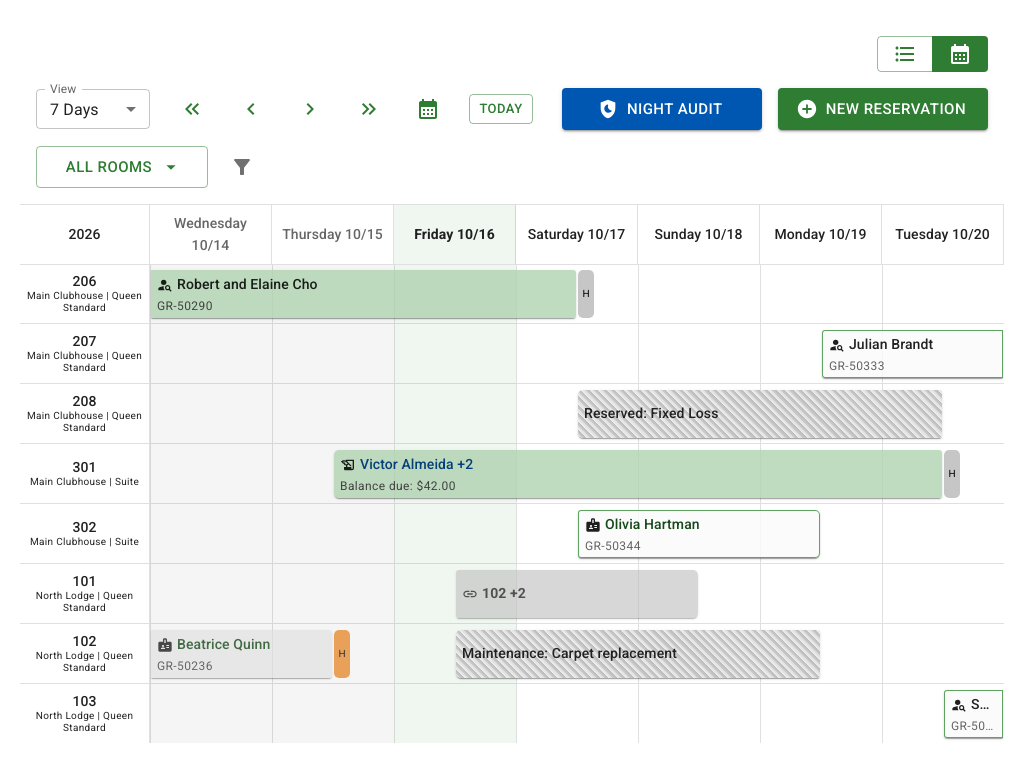
Test: the lock icons of Change Room During Stay › show no lock to a user who holds the Change Reservation functions
(page scrolled)
Click the cell "Victor Almeida +2 Balance due: $42.00 H" at coordinates (638, 474), box [334,450,942,498]
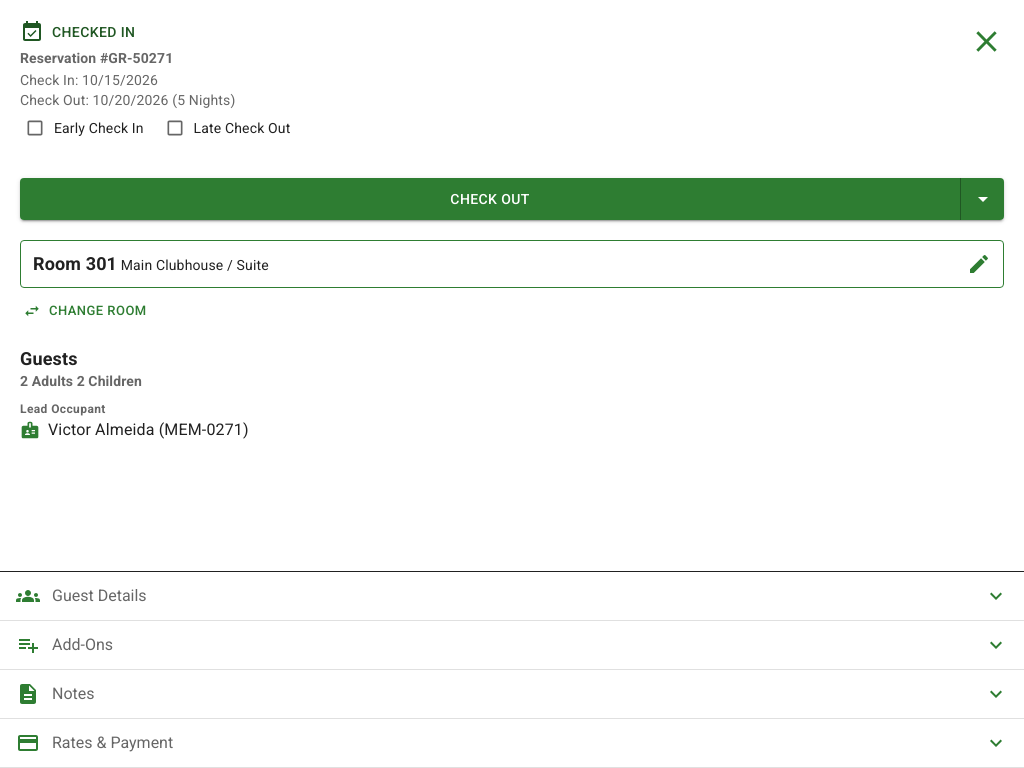
Result: the button "Change Room" is shown
Click the button "Change Room" at coordinates (86, 311), box [20,296,152,326]
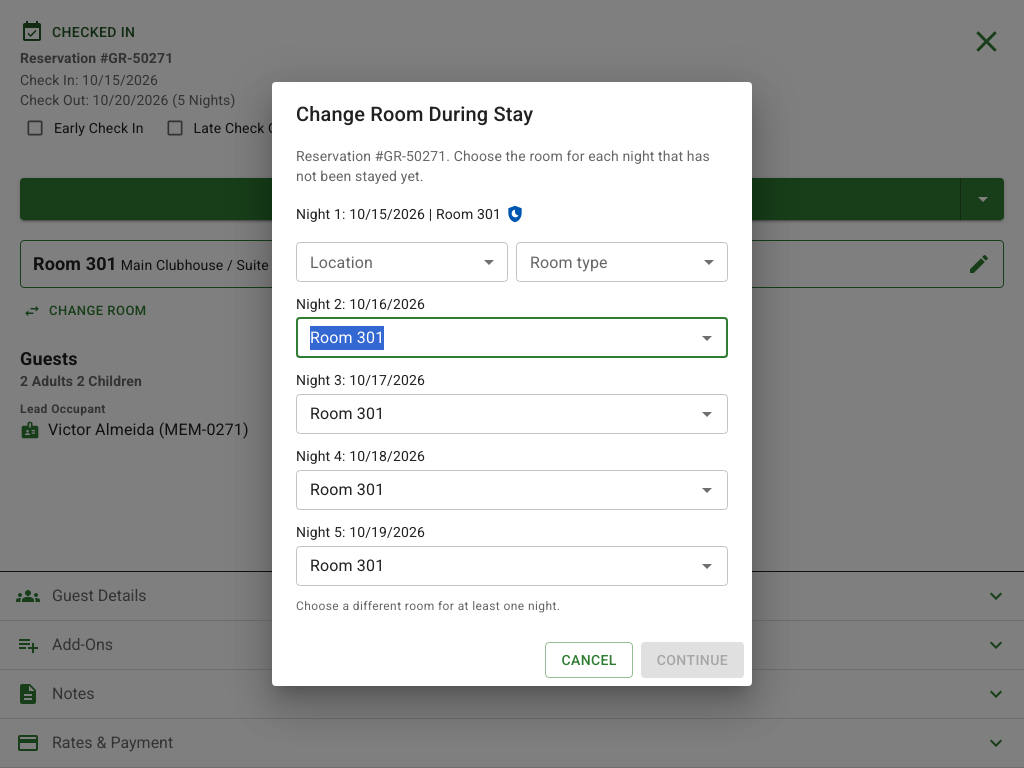
Result: the dropdown named "Room for night 2" is shown at [302,324,689,352]
